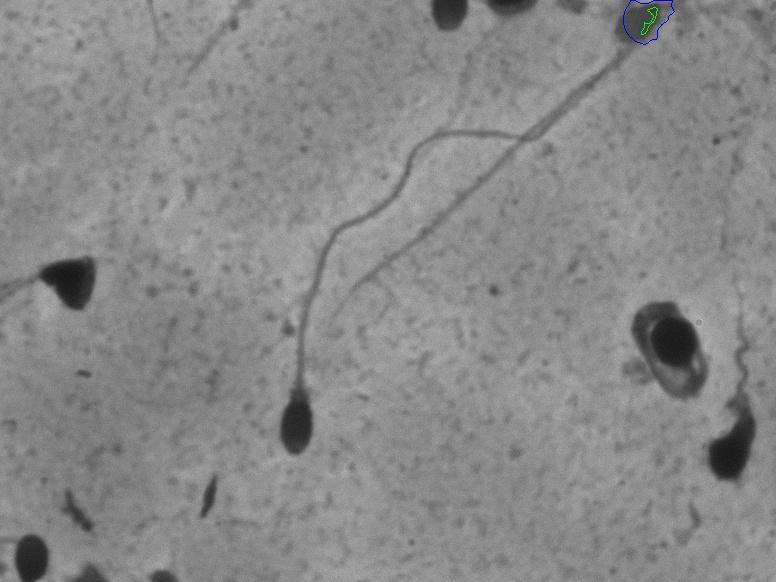Normal: (273, 50, 652, 469)
